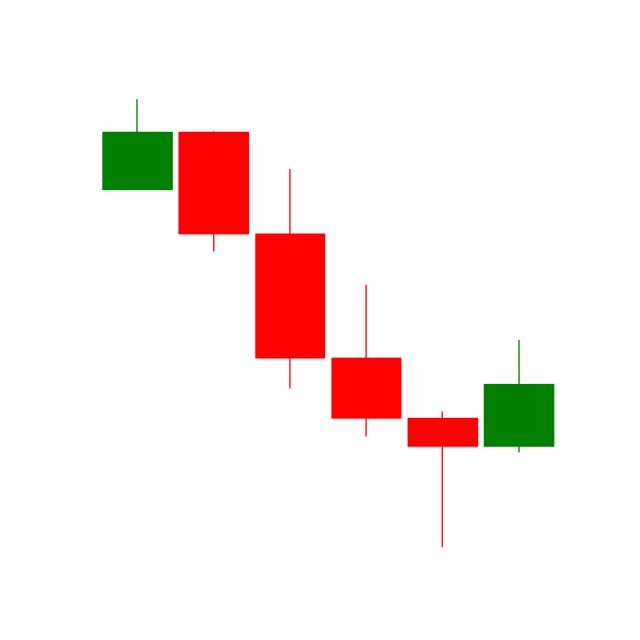Hammer: (403, 410, 481, 549)
